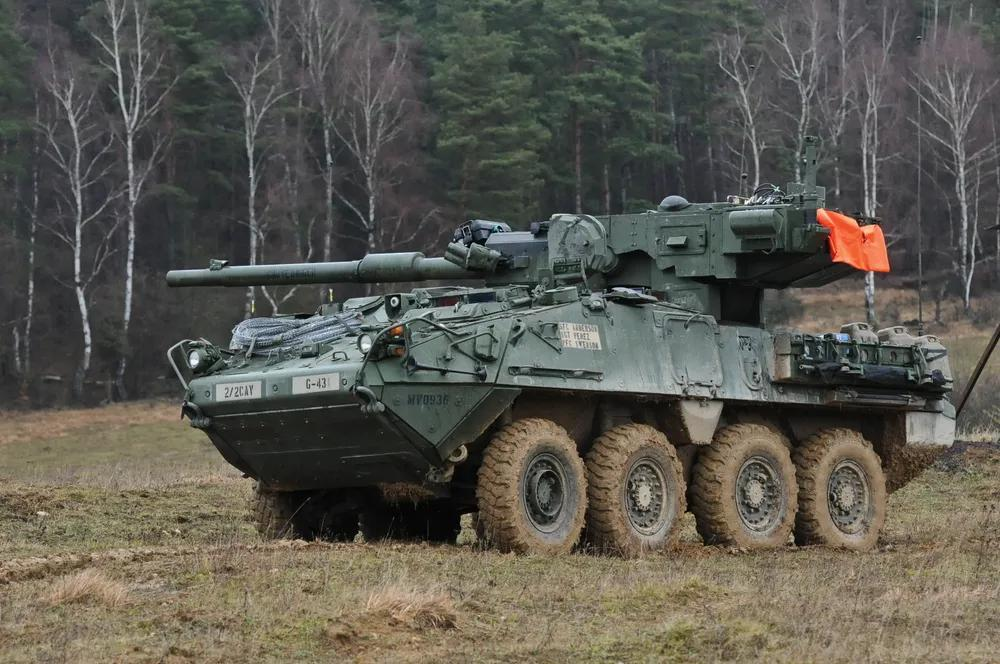MIL_IFV: (175, 156, 957, 558)
